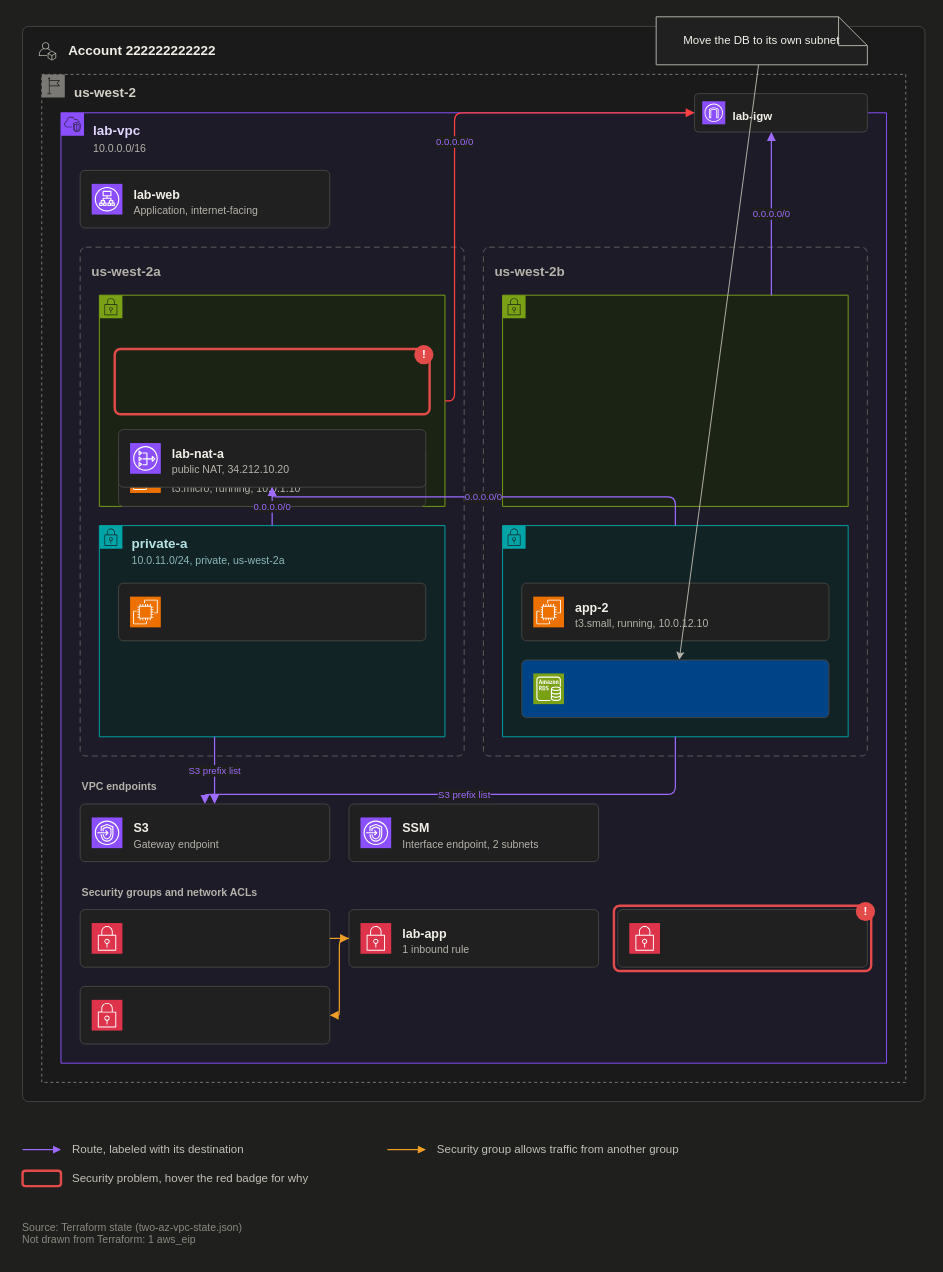
Some shapes in this 943 by 1272 pixel diagram are drawn without their labels. Here are the shapes that lost their labels. From the top down, the box of each, then its label:
(98, 294, 445, 506): public-a web tier, keep it small
(502, 294, 848, 506): public-b 10.0.2.0/24, public, us-west-2b
(118, 582, 426, 641): app-1 t3.small, running, 10.0.11.10
(502, 525, 848, 737): private-b 10.0.12.0/24, private, us-west-2b
(521, 659, 829, 718): lab-postgres postgres 16.4, db.t4g.micro
(79, 909, 330, 967): lab-alb port 443, port 80 open to the internet
(617, 909, 867, 967): lab-bastion 22 SSH open to the internet
(79, 985, 330, 1044): lab-db 1 inbound rule
